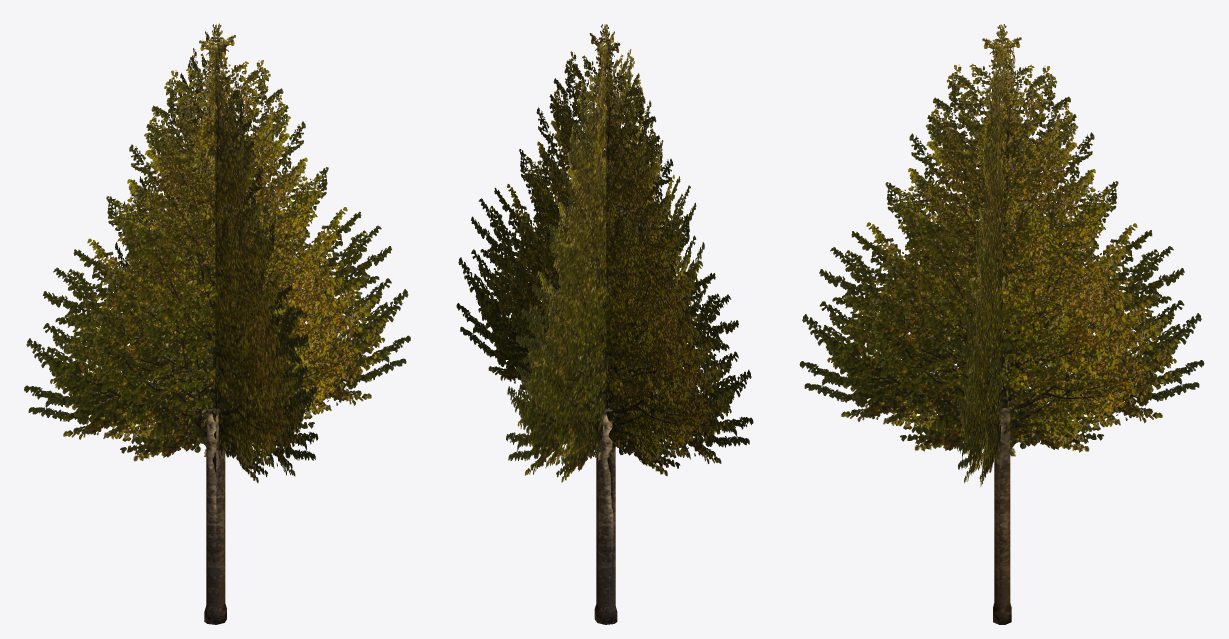
Rendered from SM_Tree_Leaves_12.fbx.
3 renders of one model, left to right at view 1: azimuth 30°, elevation 25°; view 2: azimuth 150°, elevation 25°; view 3: azimuth 270°, elevation 25°, orthographic.
Visible parts, largest first — view 1: SM_Tree_Leaves_12.001, SM_Tree_Leaves_12; view 2: SM_Tree_Leaves_12.001, SM_Tree_Leaves_12; view 3: SM_Tree_Leaves_12.001, SM_Tree_Leaves_12.
Part boxes in pixels (box(x1,y1,x2,y2)): SM_Tree_Leaves_12.001: box(24, 23, 410, 482); SM_Tree_Leaves_12: box(204, 408, 226, 624); SM_Tree_Leaves_12.001: box(456, 24, 753, 482); SM_Tree_Leaves_12: box(594, 408, 617, 624); SM_Tree_Leaves_12.001: box(799, 24, 1204, 486); SM_Tree_Leaves_12: box(993, 407, 1011, 624).
Size of the model in its own units: 894 by 1439 by 917.
